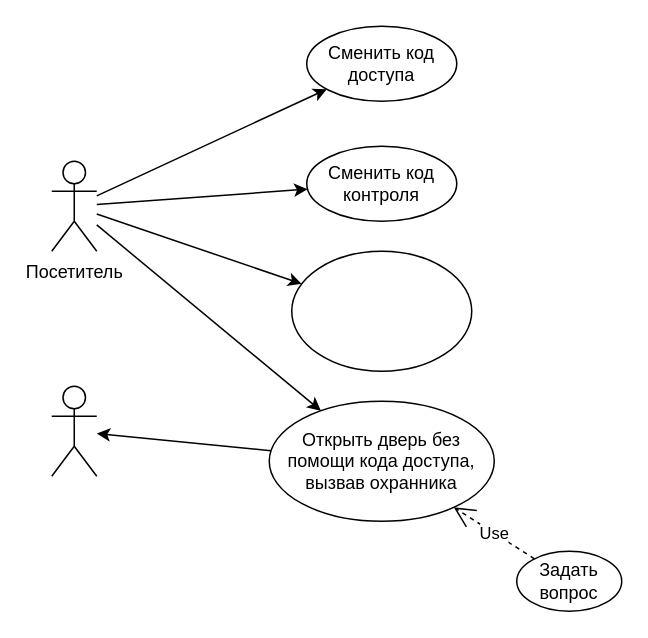
Some shapes in this 648 by 638 pixel diagram are drawn without their labels. Here are the shapes that lost their labels. From the top down, the centre of each, then its label:
pixel 381 310: Открыть дверь с помощью кода доступа
pixel 73 430: Охранник
